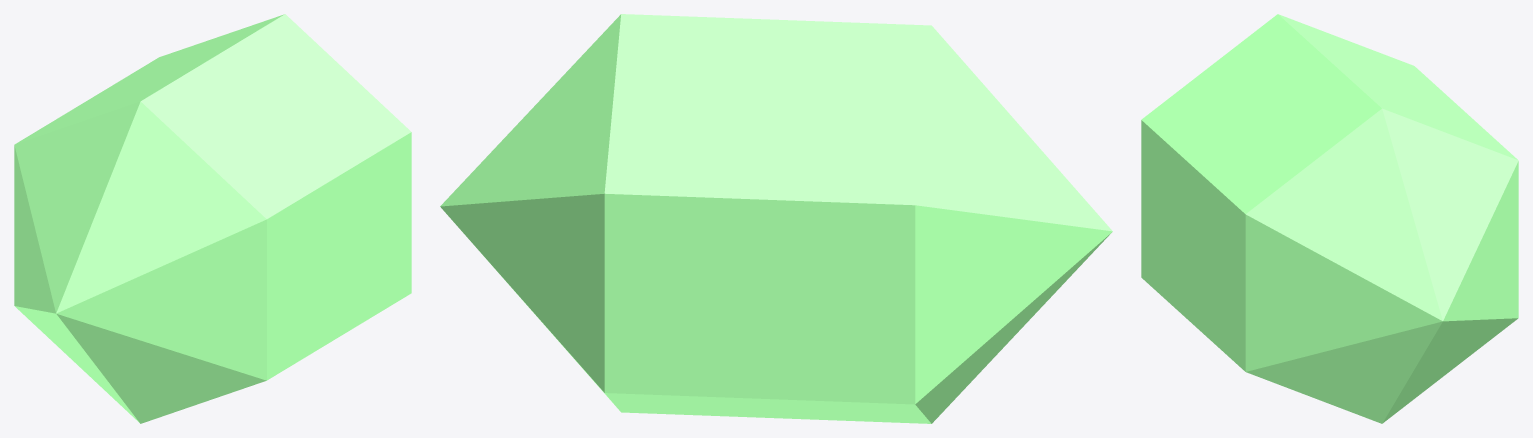
File: gem_blight.glb
3 renders of one model, left to right at view 1: azimuth 30°, elevation 25°; view 2: azimuth 150°, elevation 25°; view 3: azimuth 270°, elevation 25°, orthographic. The views are drawn at different scales.
Visible parts, largest first — view 1: model; view 2: model; view 3: model.
Part boxes in pixels (bbox=[...]): model: bbox=[14, 14, 411, 423]; model: bbox=[440, 14, 1112, 423]; model: bbox=[1141, 14, 1518, 423].
Bounding box in the file's own units: 0.1532 × 0.11 × 0.1193.
